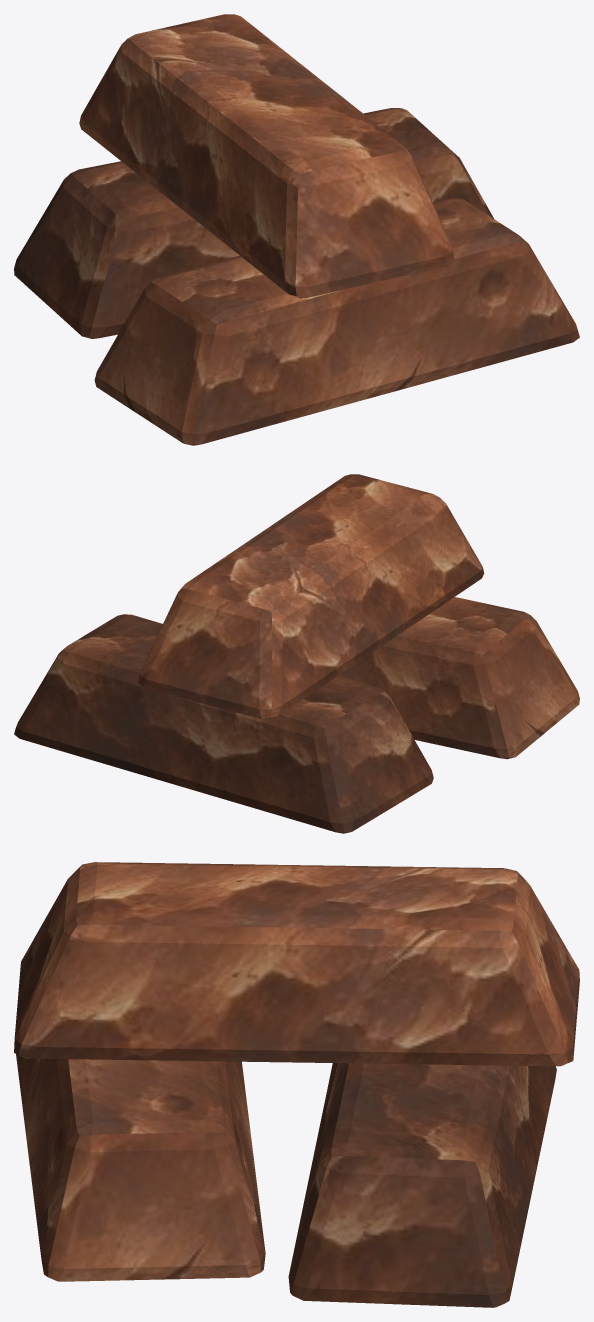
Rendered from copper_ingot.glb.
The picture shows the model from 3 angles, top to bottom: view 1: azimuth 30°, elevation 25°; view 2: azimuth 150°, elevation 25°; view 3: azimuth 270°, elevation 25°; orthographic projection. The views are drawn at different scales.
Visible parts, largest first — view 1: model; view 2: model; view 3: model.
Part boxes in pixels (bbox=[...]): model: bbox=[14, 14, 579, 445]; model: bbox=[14, 474, 579, 833]; model: bbox=[14, 862, 579, 1307].
Bounding box in the file's own units: 0.2408 × 0.115 × 0.2162.
Materials: 3 (3 with a texture image).
